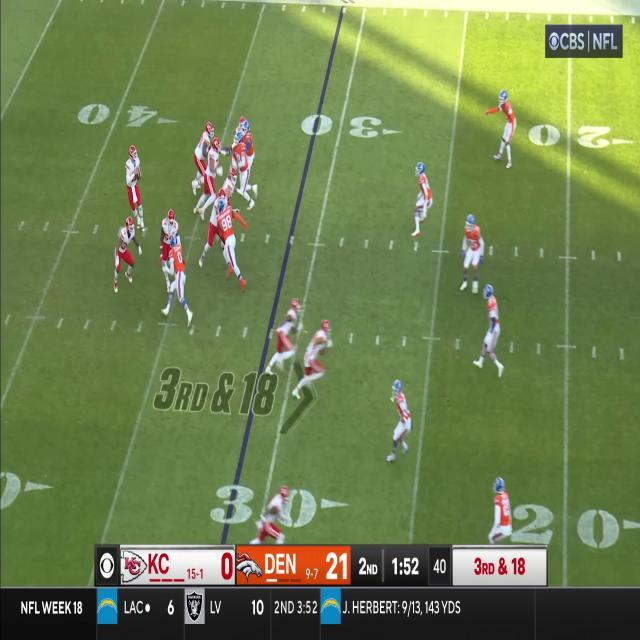Player: (386, 379, 414, 467), (485, 474, 516, 548), (167, 233, 188, 329), (217, 202, 240, 289), (482, 284, 503, 379), (274, 299, 300, 374), (411, 160, 434, 242), (308, 316, 331, 398), (460, 214, 482, 299), (494, 90, 516, 170), (258, 484, 290, 539), (113, 216, 135, 295), (126, 142, 141, 216), (234, 134, 249, 202), (157, 208, 173, 260), (207, 136, 220, 199), (195, 121, 211, 169), (244, 122, 258, 160), (223, 167, 237, 200)
